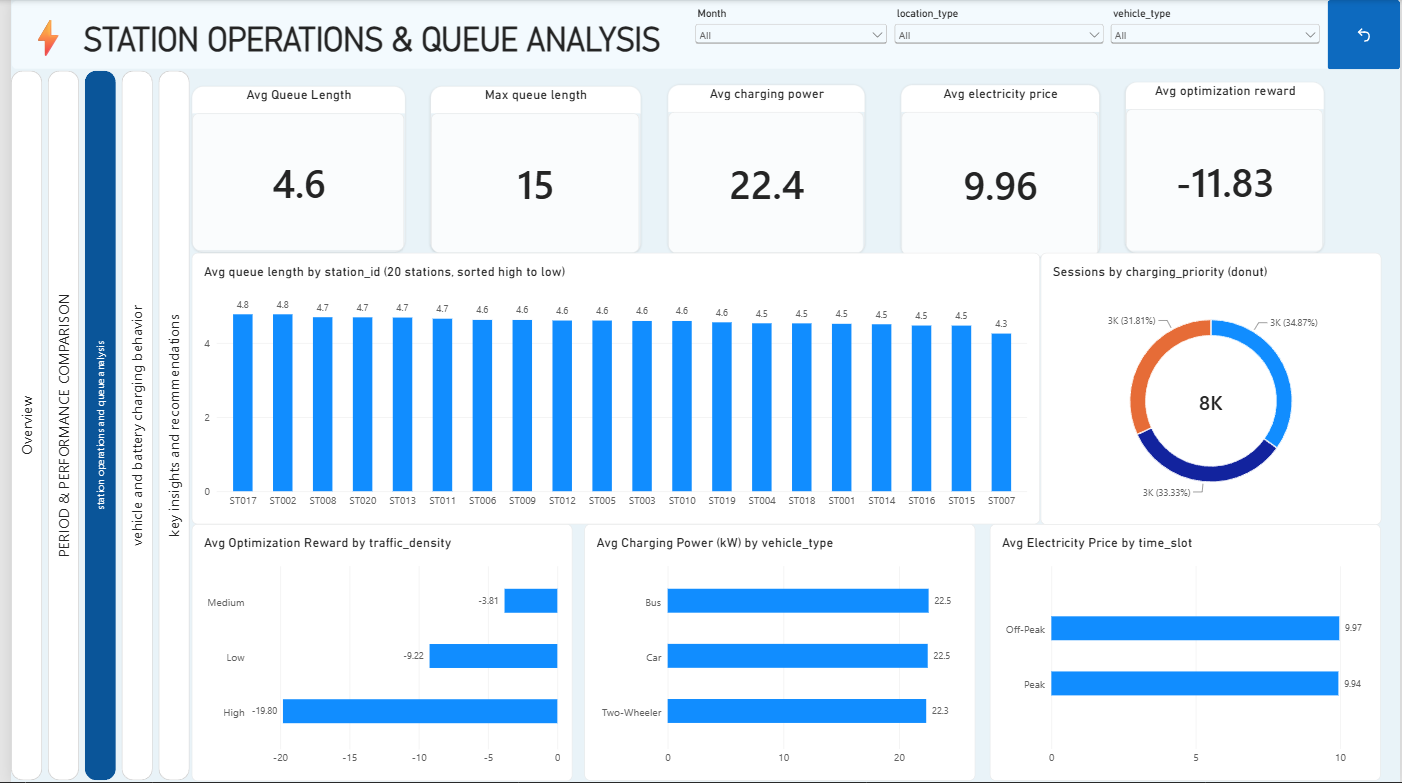

What the dashboard file says about the page in this screenshot:
{"tool":"powerbi","page":{"name":"station operations and queue analysis","canvas":[1920,1080],"ordinal":2},"visuals":[{"type":"cardVisual","fields":{"Data":["measure_heading.page3_title"]},"box":[0,0,1919.6,96.4],"z":0},{"type":"cardVisual","title":"Avg Queue Length","fields":{"Data":["measure_heading.Avg Queue Length"]},"box":[249.4,119.8,295.3,229.4],"z":1000},{"type":"cardVisual","title":"Max queue length","fields":{"Data":["measure_heading.Max Queue Length"]},"box":[579.3,119.8,290.8,231.7],"z":2000},{"type":"cardVisual","title":"Avg optimization reward","fields":{"Data":["measure_heading.Avg Optimization Reward"]},"box":[1540.1,113.5,274.9,236.2],"z":3000},{"type":"cardVisual","title":"Avg electricity price","fields":{"Data":["measure_heading.Avg Electricity Price"]},"box":[1229.2,117.8,274.9,238.5],"z":4000},{"type":"cardVisual","title":"Avg charging power","fields":{"Data":["measure_heading.Avg Charging Power (kW)"]},"box":[907.2,117.8,272.6,234],"z":5000},{"type":"slicer","fields":{"Values":["DateTable.Month"]},"box":[942,8.9,274.5,78.1],"z":6000},{"type":"slicer","fields":{"Values":["ev_charging_dataset.vehicle_type"]},"box":[1515.6,8.9,299.1,87.1],"z":7000},{"type":"slicer","fields":{"Values":["ev_charging_dataset.location_type"]},"box":[1216.5,8.9,299.1,87.1],"z":8000},{"type":"actionButton","box":[1819.2,0,100.4,96],"z":9000},{"type":"pageNavigator","box":[0,98.2,249.4,981.8],"z":10000},{"type":"columnChart","title":"Avg queue length by station_id (20 stations, sorted high to low)","fields":{"Category":["ev_charging_dataset.station_id"],"Y":["measure_heading.Avg Queue Length"]},"box":[249.4,349.5,1172.3,375.1],"z":11000},{"type":"donutChart","title":"Sessions by charging_priority (donut)","fields":{"Category":["ev_charging_dataset.charging_priority"],"Y":["measure_heading.total_charging_session"]},"box":[1422.5,348.9,470.7,375.7],"z":12000},{"type":"barChart","fields":{"Category":["ev_charging_dataset.traffic_density"],"Y":["measure_heading.Avg Optimization Reward"]},"box":[249.4,724.6,526.3,355.4],"z":13000},{"type":"barChart","fields":{"Category":["ev_charging_dataset.vehicle_type"],"Y":["measure_heading.Avg Charging Power (kW)"]},"box":[793.3,724.6,540,355],"z":14000},{"type":"barChart","fields":{"Category":["ev_charging_dataset.time_slot"],"Y":["measure_heading.Avg Electricity Price"]},"box":[1352.5,725,540,355],"z":15000}]}

Visuals, with their boxes on the page's 1920x1080 design canvas (x1, y1, x2, y2). These are canvas units, not pixel positions in the 1402x783 screenshot, which may show the page scaled, cropped or inside an application window:
cardVisual - measure_heading.page3_title: pyautogui.locateOnScreen(0, 0, 1920, 96)
"Avg Queue Length" cardVisual: pyautogui.locateOnScreen(249, 120, 545, 349)
"Max queue length" cardVisual: pyautogui.locateOnScreen(579, 120, 870, 352)
"Avg optimization reward" cardVisual: pyautogui.locateOnScreen(1540, 114, 1815, 350)
"Avg electricity price" cardVisual: pyautogui.locateOnScreen(1229, 118, 1504, 356)
"Avg charging power" cardVisual: pyautogui.locateOnScreen(907, 118, 1180, 352)
slicer - DateTable.Month: pyautogui.locateOnScreen(942, 9, 1216, 87)
slicer - ev_charging_dataset.vehicle_type: pyautogui.locateOnScreen(1516, 9, 1815, 96)
slicer - ev_charging_dataset.location_type: pyautogui.locateOnScreen(1216, 9, 1516, 96)
actionButton: pyautogui.locateOnScreen(1819, 0, 1920, 96)
pageNavigator: pyautogui.locateOnScreen(0, 98, 249, 1080)
"Avg queue length by station_id (20 stations, sorted high to low)" columnChart: pyautogui.locateOnScreen(249, 350, 1422, 725)
"Sessions by charging_priority (donut)" donutChart: pyautogui.locateOnScreen(1422, 349, 1893, 725)
barChart - ev_charging_dataset.traffic_density x measure_heading.Avg Optimization Reward: pyautogui.locateOnScreen(249, 725, 776, 1080)
barChart - ev_charging_dataset.vehicle_type x measure_heading.Avg Charging Power (kW): pyautogui.locateOnScreen(793, 725, 1333, 1080)
barChart - ev_charging_dataset.time_slot x measure_heading.Avg Electricity Price: pyautogui.locateOnScreen(1352, 725, 1892, 1080)
